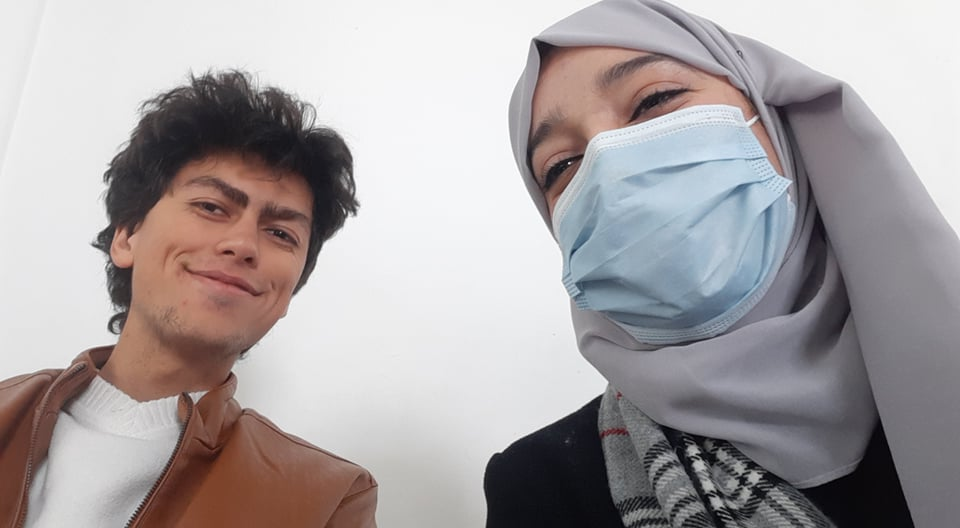without_mask: (155, 163, 312, 345)
